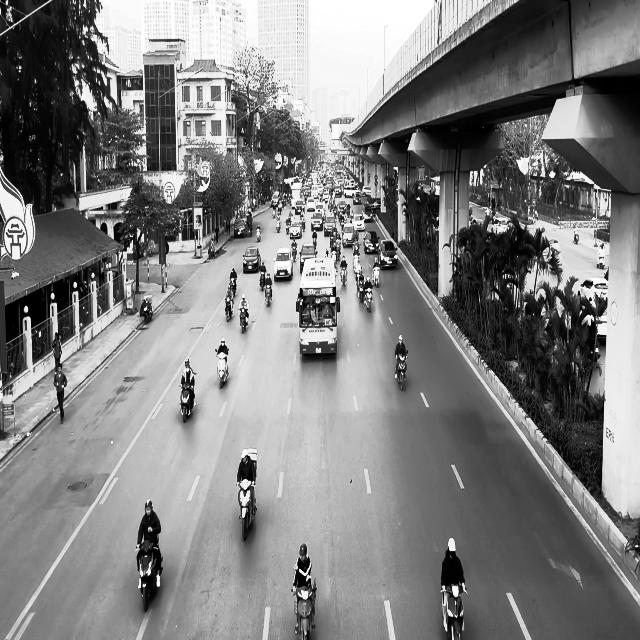bus: (296, 256, 340, 356)
car: (577, 277, 608, 310), (273, 247, 293, 280), (378, 239, 398, 269), (242, 246, 261, 273), (300, 243, 316, 273), (363, 230, 380, 253), (342, 224, 355, 246), (233, 218, 247, 238), (289, 219, 302, 238)
motorbike: (136, 538, 162, 612), (440, 582, 467, 640), (292, 578, 316, 640), (236, 479, 257, 540), (179, 373, 196, 422), (215, 348, 229, 388), (394, 352, 408, 391), (143, 296, 153, 323), (363, 286, 373, 312), (239, 308, 248, 333), (225, 296, 233, 322), (264, 282, 272, 306), (372, 263, 380, 286), (340, 264, 347, 286), (259, 271, 266, 290)
